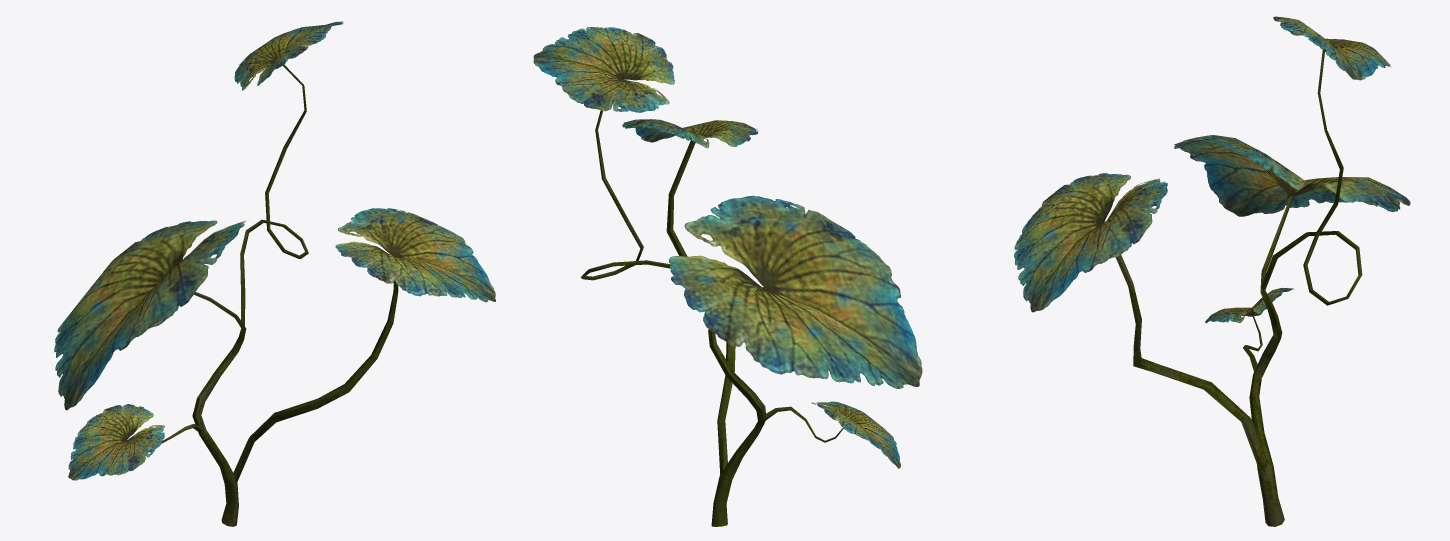
File: S_Plant_Blue010.FBX
The picture shows the model from 3 angles, left to right: view 1: azimuth 30°, elevation 25°; view 2: azimuth 150°, elevation 25°; view 3: azimuth 270°, elevation 25°; orthographic projection. The views are drawn at different scales.
Visible parts, largest first — view 1: S_Plant_Blue010; view 2: S_Plant_Blue010; view 3: S_Plant_Blue010.
Part boxes in pixels (x1,y1,x2,y2): S_Plant_Blue010: (54,21,495,526); S_Plant_Blue010: (533,27,922,526); S_Plant_Blue010: (1014,16,1410,526).
Size of the model in its own units: 97.69 by 85.63 by 116.
